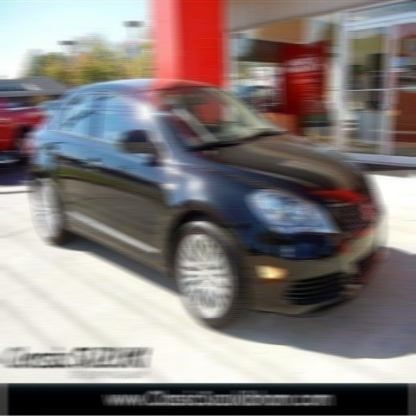Vehicle: (25, 75, 387, 332)
